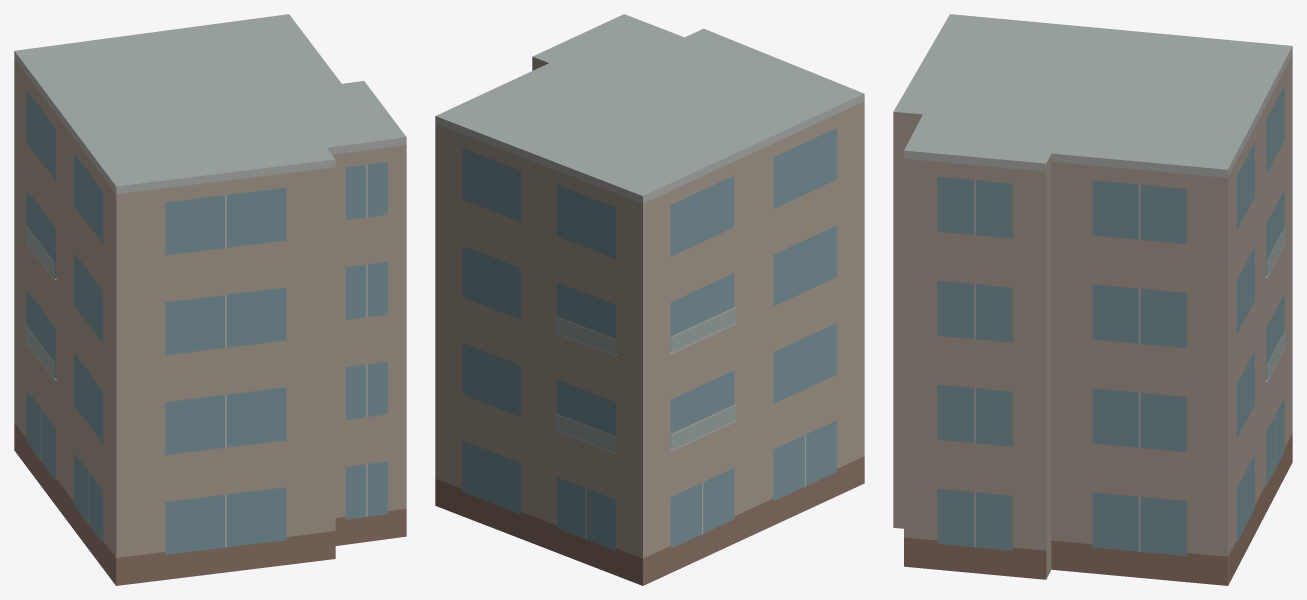
File: survey-upis-32831578.glb
The picture shows the model from 3 angles, left to right: view 1: azimuth 30°, elevation 25°; view 2: azimuth 150°, elevation 25°; view 3: azimuth 270°, elevation 25°; orthographic projection. The views are drawn at different scales.
Parts seen in each view (by area): view 1: survey-upis-32831578.tmp; view 2: survey-upis-32831578.tmp; view 3: survey-upis-32831578.tmp.
Part boxes in pixels (bbox=[...]): survey-upis-32831578.tmp: bbox=[14, 14, 406, 585]; survey-upis-32831578.tmp: bbox=[435, 14, 864, 585]; survey-upis-32831578.tmp: bbox=[893, 14, 1292, 585].
Bounding box in the file's own units: 10.04 × 12.5 × 10.88.
